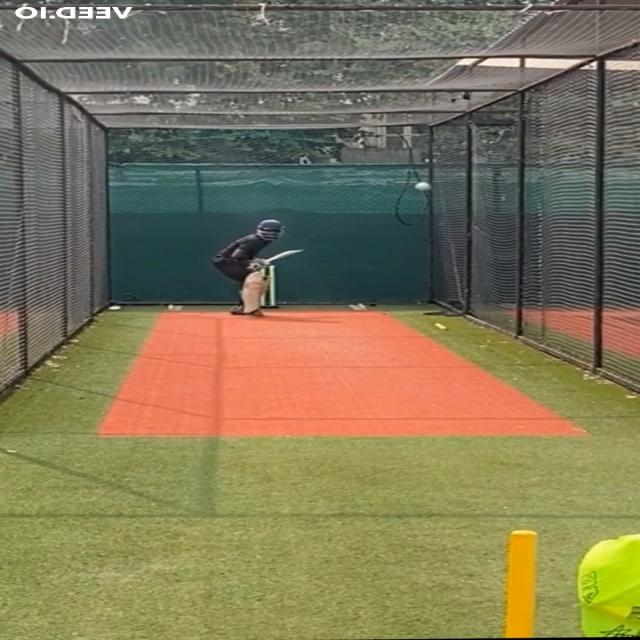ball: (413, 179, 433, 194)
stump: (259, 262, 280, 310)
